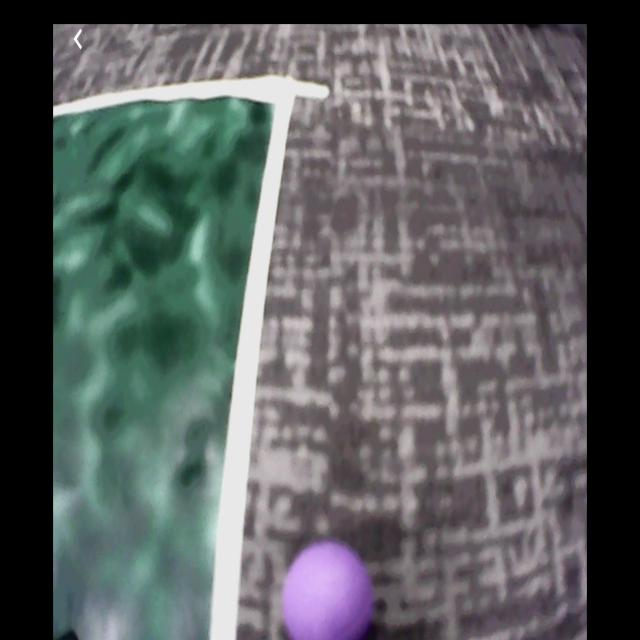ball: (281, 540, 376, 640)
